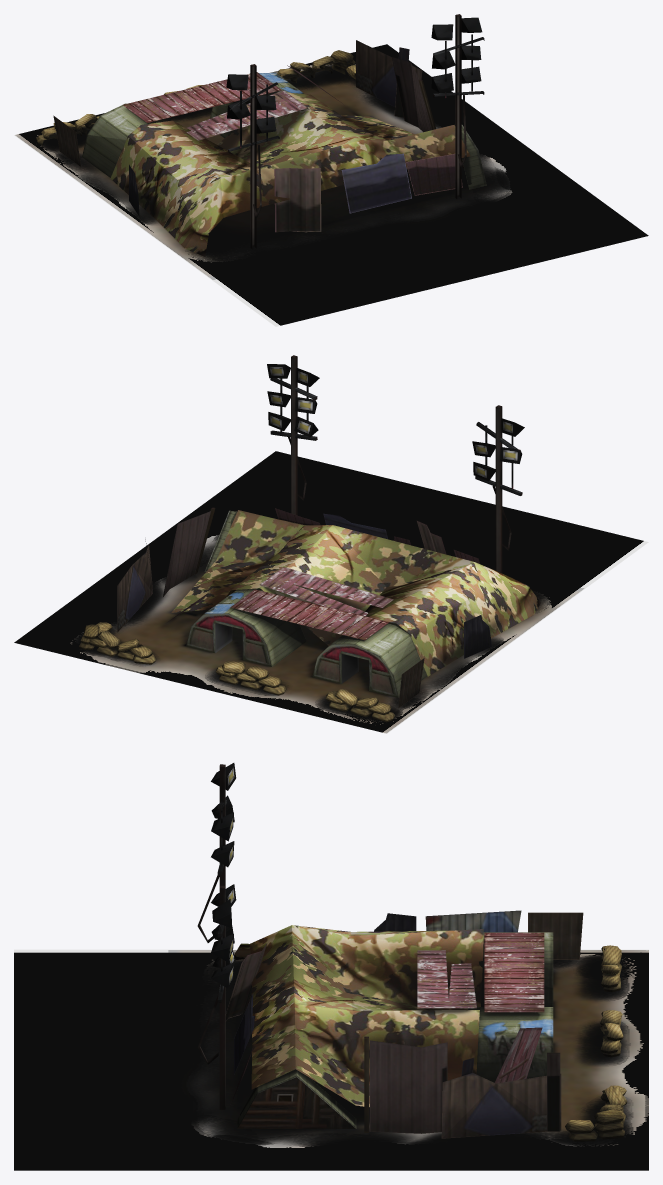
File: cangbingdong.FBX
The picture shows the model from 3 angles, top to bottom: view 1: azimuth 30°, elevation 25°; view 2: azimuth 150°, elevation 25°; view 3: azimuth 270°, elevation 25°; orthographic projection. The views are drawn at different scales.
Visible parts, largest first — view 1: Barracks_01, cangbingdong_di; view 2: Barracks_01, cangbingdong_di; view 3: cangbingdong_di, Barracks_01.
Boxes of the visible parts, x1,y1,x2,y2 form: Barracks_01: (36,14,486,256); cangbingdong_di: (14,44,648,326); Barracks_01: (79,355,540,722); cangbingdong_di: (14,451,648,733); cangbingdong_di: (14,949,648,1170); Barracks_01: (197,763,627,1141).
Size of the model in its own units: 776 by 365 by 944.
2 materials, 2 textured.
